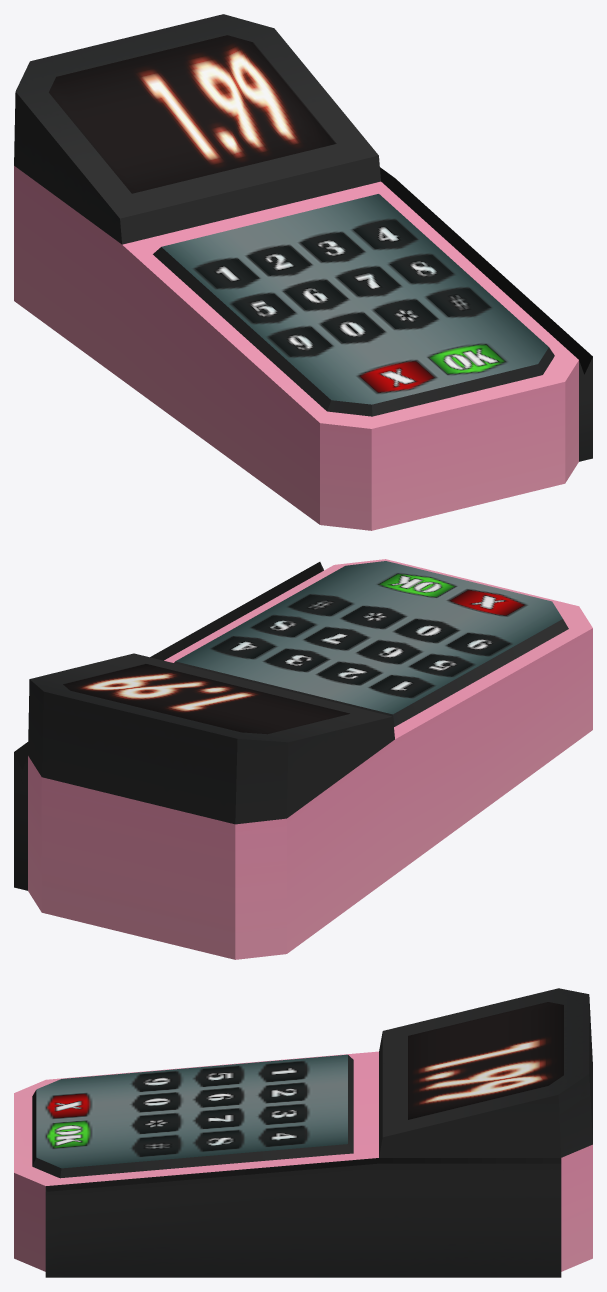
The model's file is Credit_Card_Machine_6.FBX.
The picture shows the model from 3 angles, top to bottom: view 1: azimuth 30°, elevation 25°; view 2: azimuth 150°, elevation 25°; view 3: azimuth 270°, elevation 25°; orthographic projection. The views are drawn at different scales.
Parts seen in each view (by area): view 1: Credit_Card_Machine; view 2: Credit_Card_Machine; view 3: Credit_Card_Machine.
Part boxes in pixels (x1,y1,x2,y2): Credit_Card_Machine: [14, 14, 592, 530]; Credit_Card_Machine: [14, 559, 592, 959]; Credit_Card_Machine: [14, 988, 592, 1277].
Size of the model in its own units: 52.7 by 40.5 by 115.
